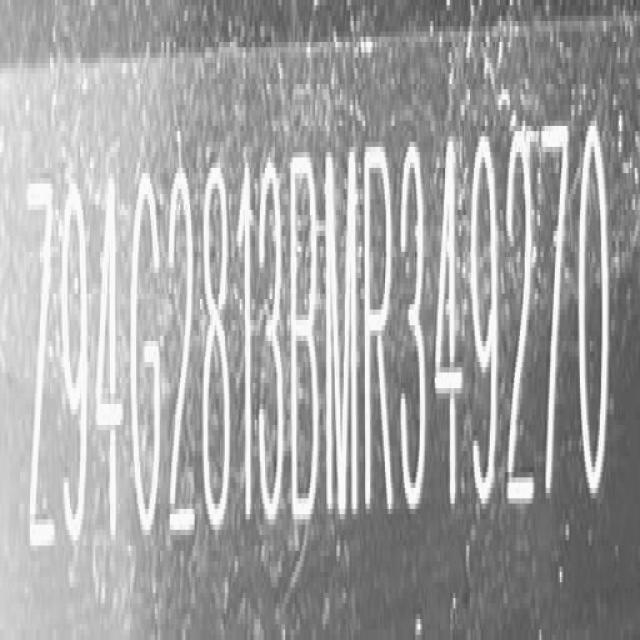0: (580, 128, 613, 502)
1: (235, 162, 255, 536)
2: (507, 128, 542, 518), (172, 161, 202, 543)
3: (400, 142, 431, 518), (258, 157, 285, 542)
4: (433, 138, 465, 518), (95, 179, 127, 555)
7: (536, 111, 570, 501)
8: (203, 163, 235, 539)
9: (469, 140, 500, 520), (58, 181, 89, 558)
B: (290, 152, 324, 526)
G: (131, 173, 164, 549)
M: (324, 148, 359, 527)
R: (363, 142, 397, 523)
Z: (26, 173, 58, 558)
